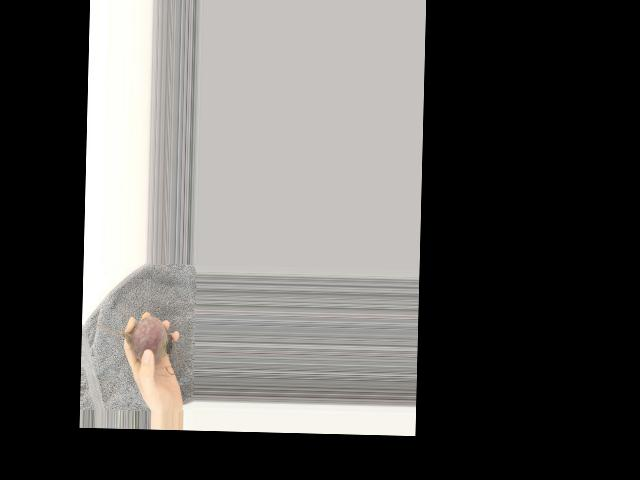beet: (94, 314, 173, 364)
